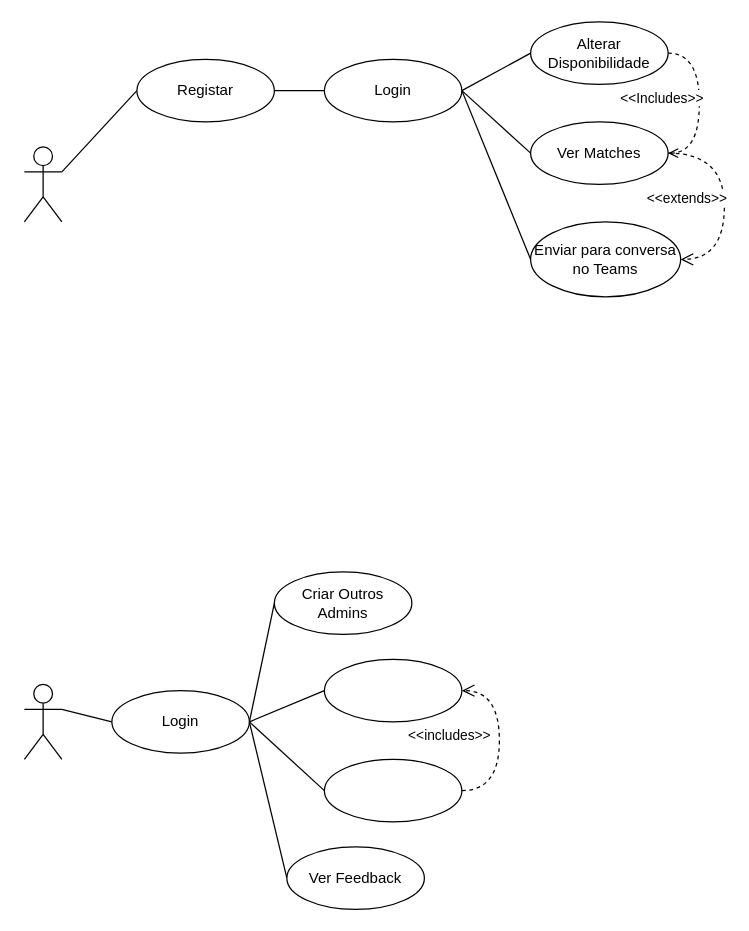
Some shapes in this 749 by 931 pixel diagram are drawn without their labels. The shapes that lost their labels are listed below. From the top down, each one's centre as x and y in pixels, then its label:
At [42,184]: "User".
At [392,690]: "Bloquear Utiliz adores".
At [42,721]: "Admin".
At [392,790]: "Ver Utilizadores".
